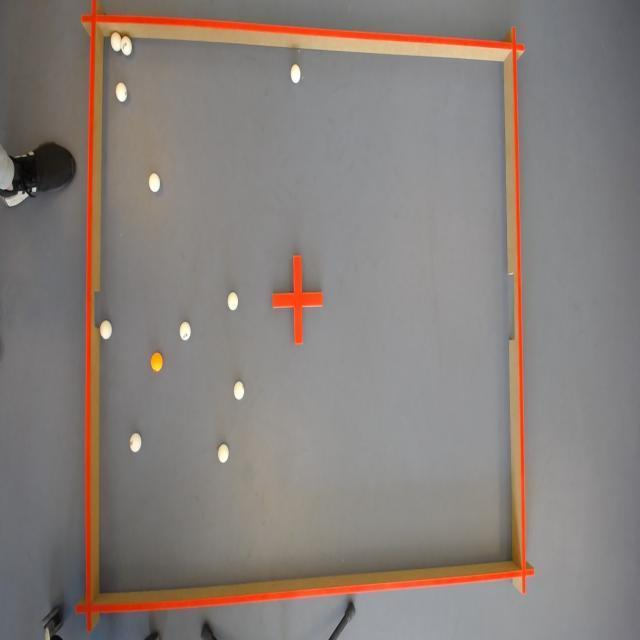orange: (152, 353, 164, 374)
white: (178, 321, 192, 344), (116, 83, 130, 104), (98, 317, 112, 338), (290, 62, 303, 83), (228, 291, 240, 312), (233, 378, 244, 399), (121, 36, 132, 57), (110, 31, 121, 52), (130, 431, 140, 454), (149, 172, 160, 192), (220, 442, 230, 463)
